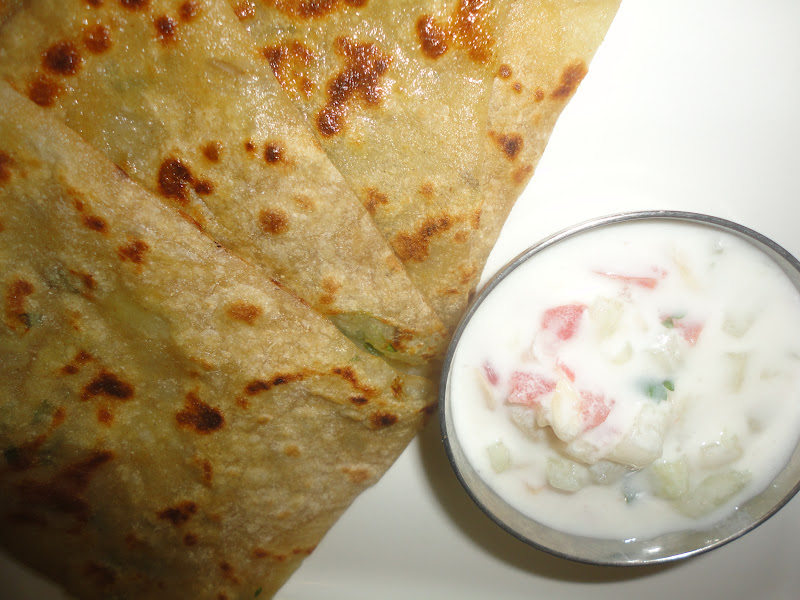aloo_paratha: (1, 2, 620, 585)
